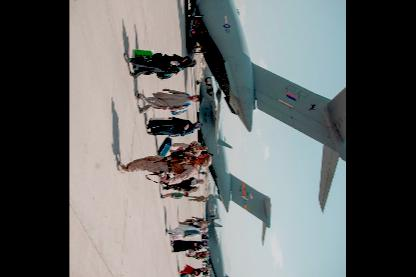C2: (184, 0, 346, 213), (195, 65, 272, 245), (203, 192, 252, 276)
